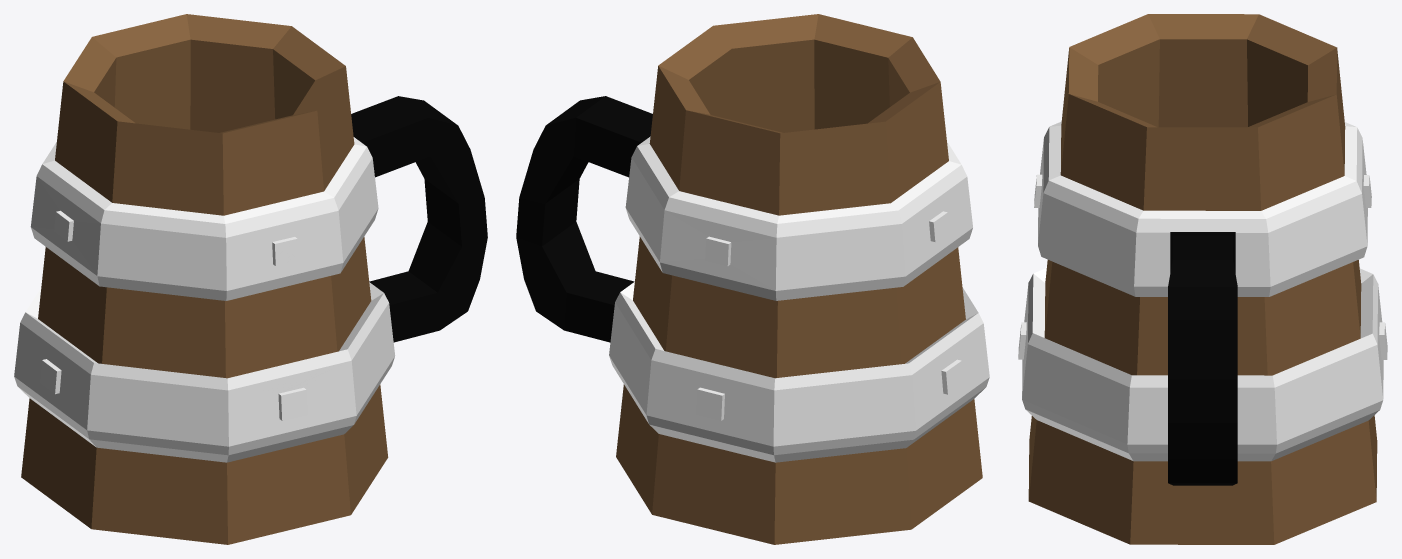
Rendered from medieval_cup.fbx.
The picture shows the model from 3 angles, left to right: view 1: azimuth 30°, elevation 25°; view 2: azimuth 150°, elevation 25°; view 3: azimuth 270°, elevation 25°; orthographic projection.
Parts seen in each view (by area): view 1: cup; view 2: cup; view 3: cup.
Boxes of the visible parts, <box> form: cup: <box>14,14,487,544</box>; cup: <box>516,14,989,544</box>; cup: <box>1018,14,1387,544</box>.
Bounding box in the file's own units: 1.67 × 1.48 × 1.24.
